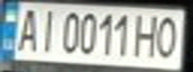0: (57, 8, 81, 55), (78, 9, 100, 55)
1: (112, 10, 133, 57), (96, 10, 115, 56)
A: (12, 5, 42, 53)
H: (133, 11, 163, 58)
I: (33, 6, 60, 53)
O: (151, 12, 184, 59)
